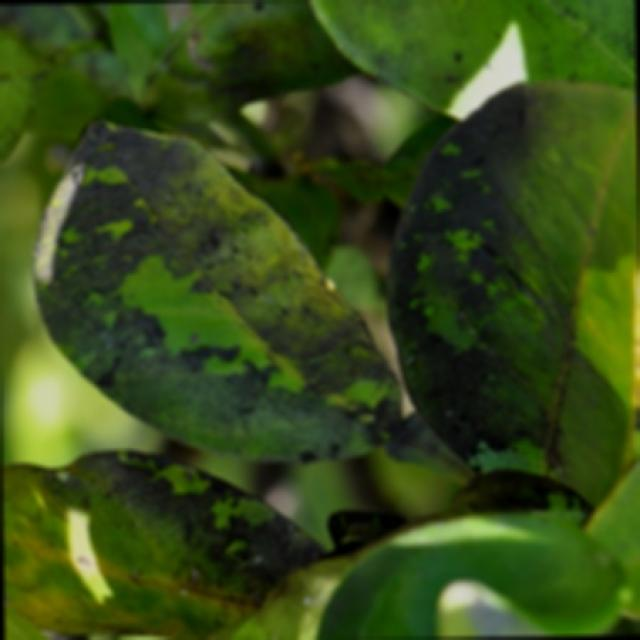Sooty Mold: (28, 115, 404, 465), (384, 77, 639, 509), (0, 445, 327, 639)
